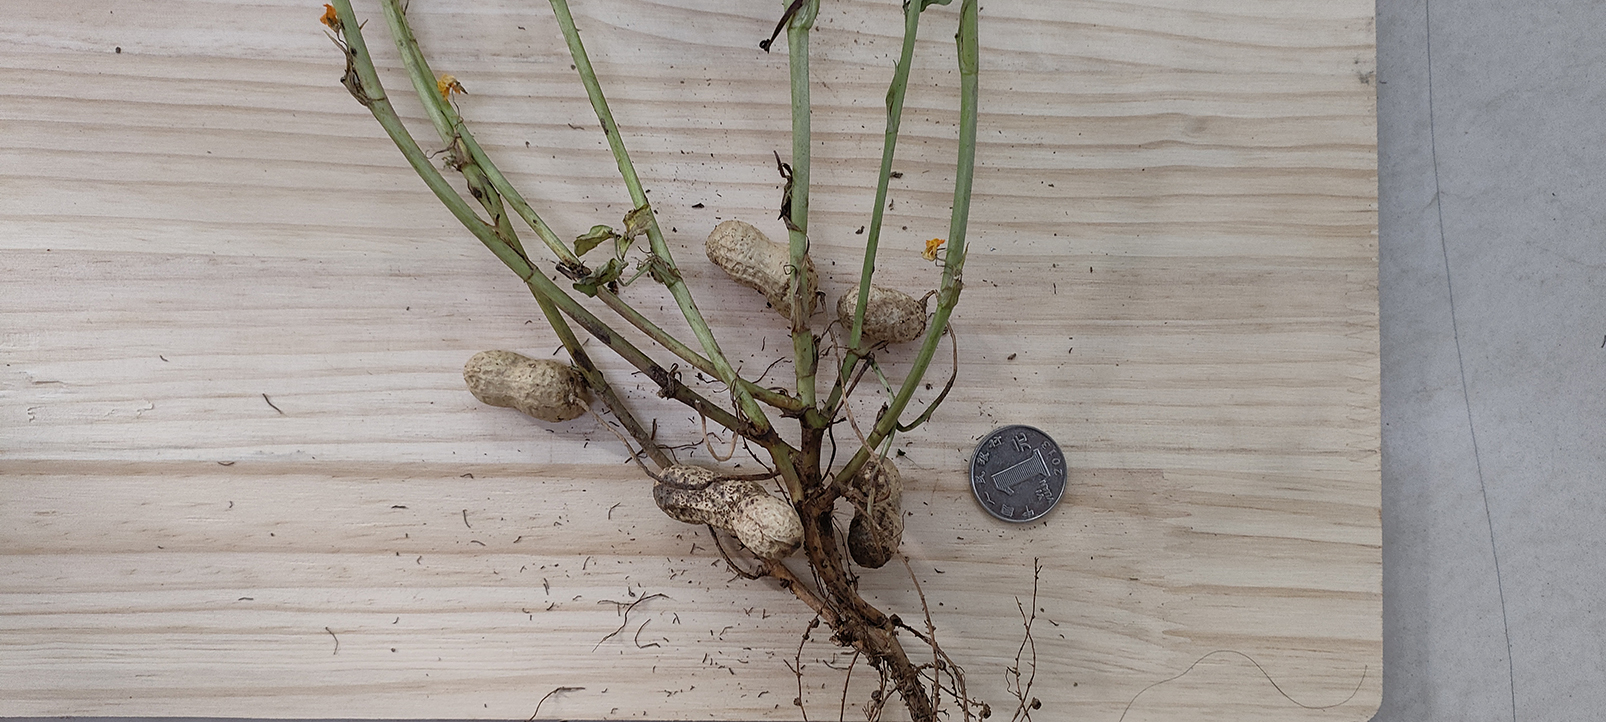h: (653, 465, 804, 559), (705, 220, 818, 320), (462, 349, 587, 423), (840, 285, 929, 345)
l: (844, 458, 903, 567)
